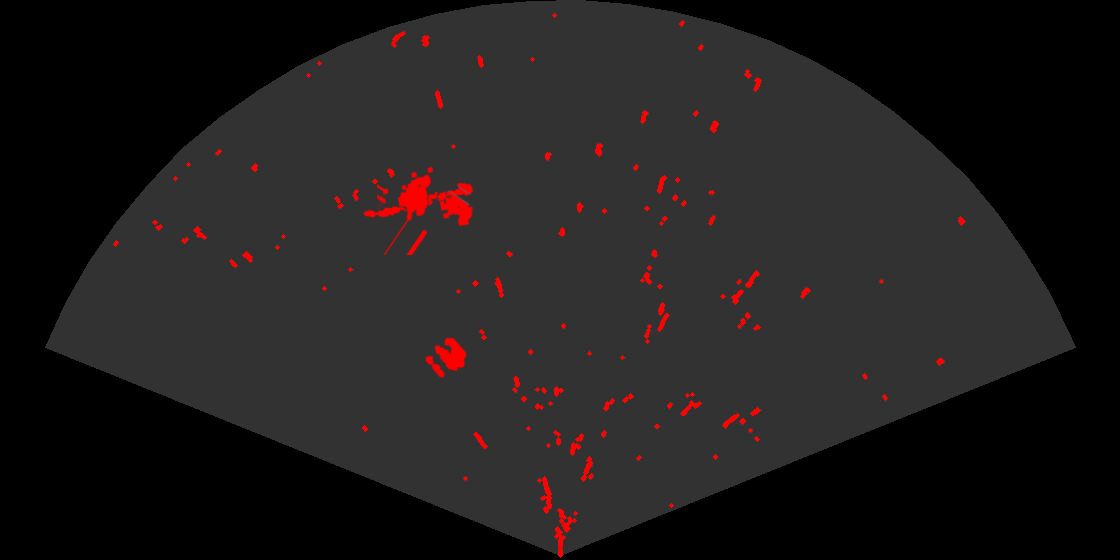ball: (424, 336, 468, 379)
cage: (377, 165, 475, 255)
chain: (362, 182, 473, 220)
